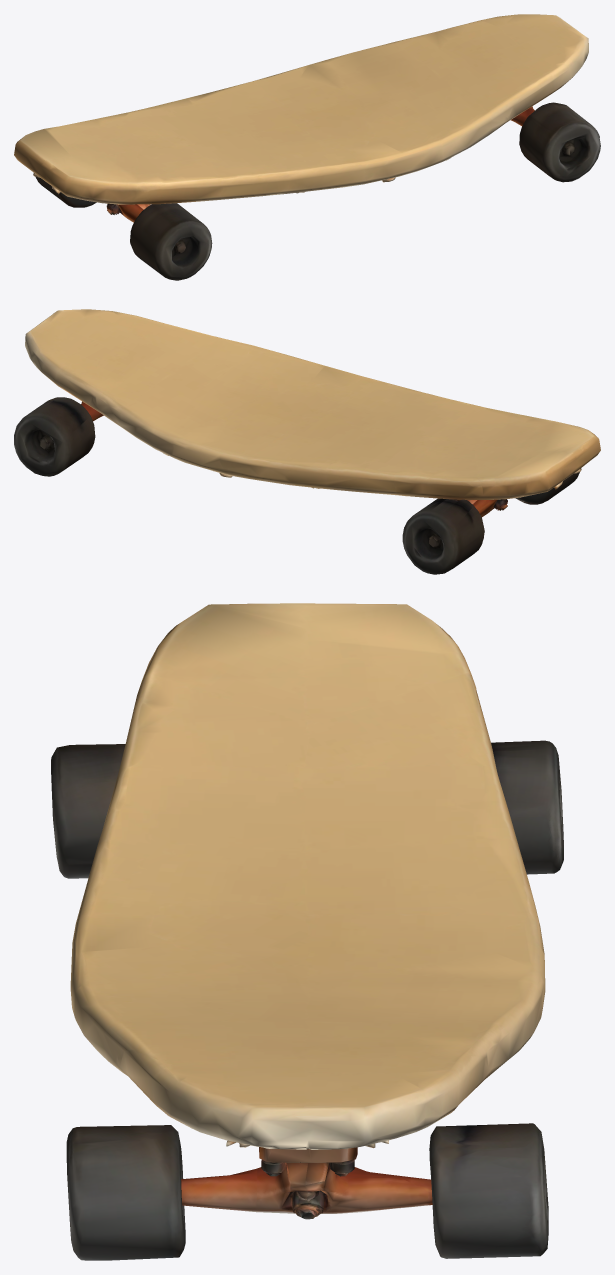
The model's file is CCG_Deck_IvoryEngraveSupreme_web.glb.
3 views of the same model, one above another, from view 1: azimuth 30°, elevation 25°; view 2: azimuth 150°, elevation 25°; view 3: azimuth 270°, elevation 25° (orthographic). The views are drawn at different scales.
Parts seen in each view (by area): view 1: SM_Deck_IvoryEngraveSupreme; view 2: SM_Deck_IvoryEngraveSupreme; view 3: SM_Deck_IvoryEngraveSupreme.
Boxes of the visible parts, x1,y1,x2,y2 form: SM_Deck_IvoryEngraveSupreme: (14, 14, 600, 280); SM_Deck_IvoryEngraveSupreme: (14, 309, 600, 574); SM_Deck_IvoryEngraveSupreme: (51, 603, 563, 1260).
Bounding box in the file's own units: 0.8196 × 0.1469 × 0.3377.
1 material, 1 textured.
